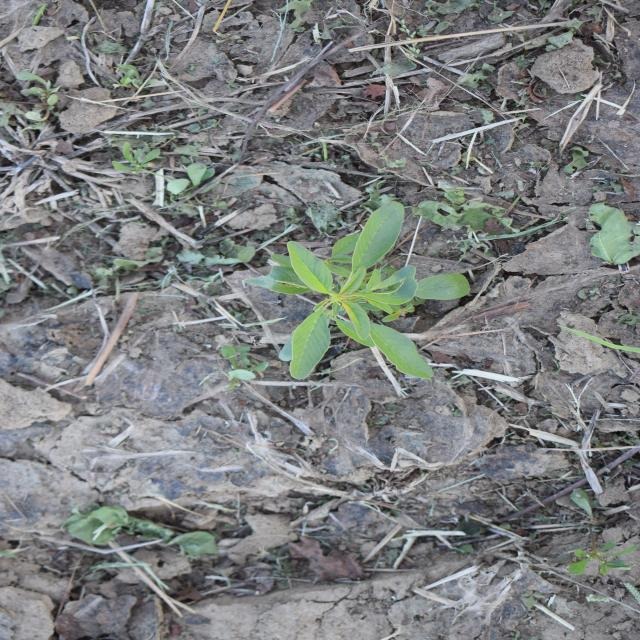Waterhemp: (239, 199, 472, 381)
